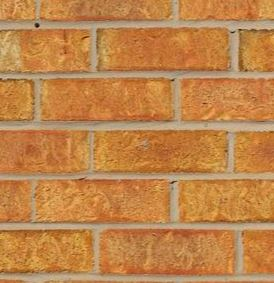brick: (96, 228, 237, 277), (34, 177, 171, 225), (38, 76, 177, 123), (96, 25, 233, 72), (93, 127, 229, 174), (176, 178, 274, 227), (1, 226, 95, 276), (181, 75, 274, 123), (1, 28, 94, 75), (1, 128, 91, 174), (41, 1, 171, 22), (176, 1, 274, 21)
